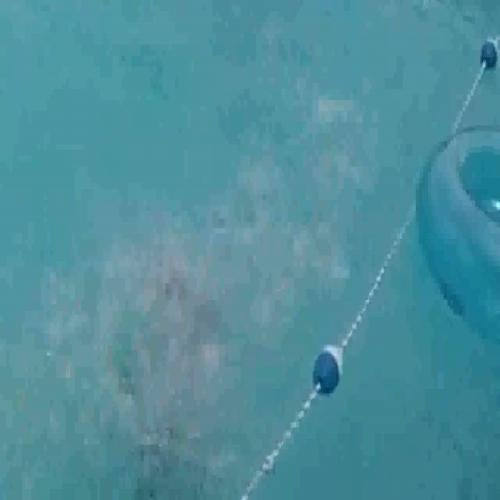drowning: (145, 215, 240, 358)
